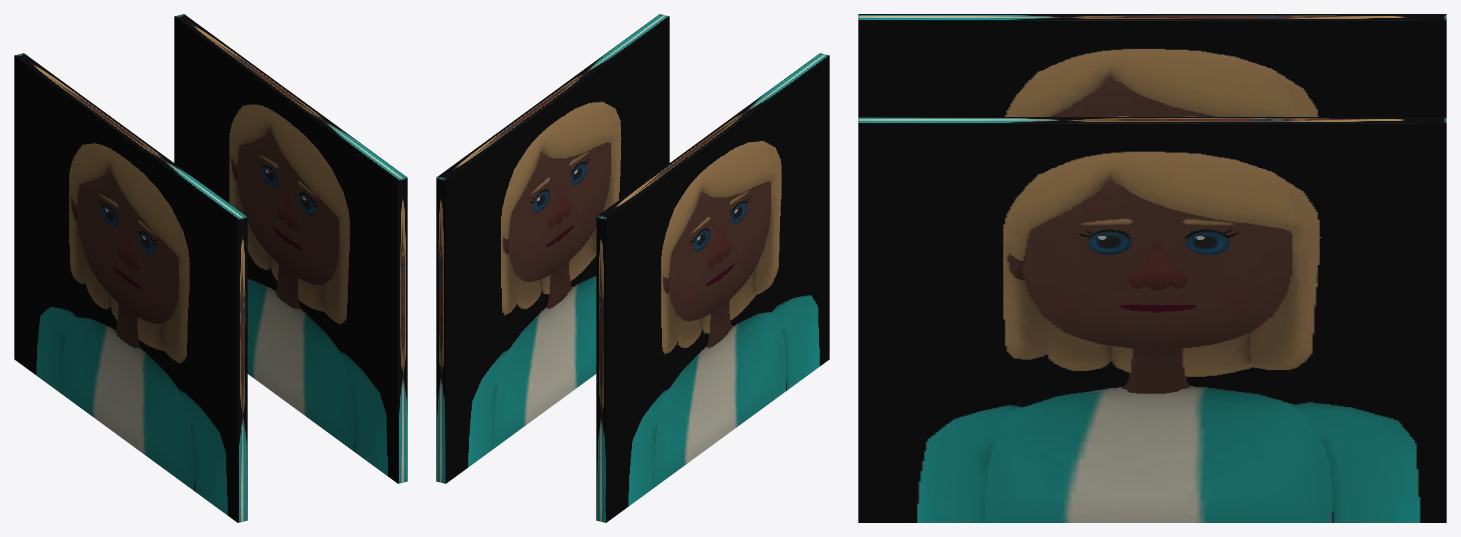
Rendered from three.obj.
The picture shows the model from 3 angles, left to right: view 1: azimuth 30°, elevation 25°; view 2: azimuth 150°, elevation 25°; view 3: azimuth 270°, elevation 25°; orthographic projection. The views are drawn at different scales.
Bounding box in the file's own units: 21.22 × 36.23 × 48.34.
Materials: 1 (1 with a texture image).
